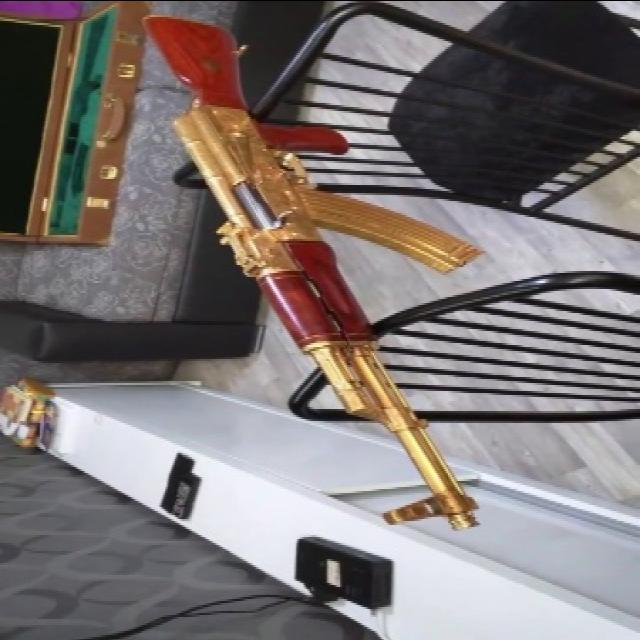rifle: (131, 7, 488, 541)
